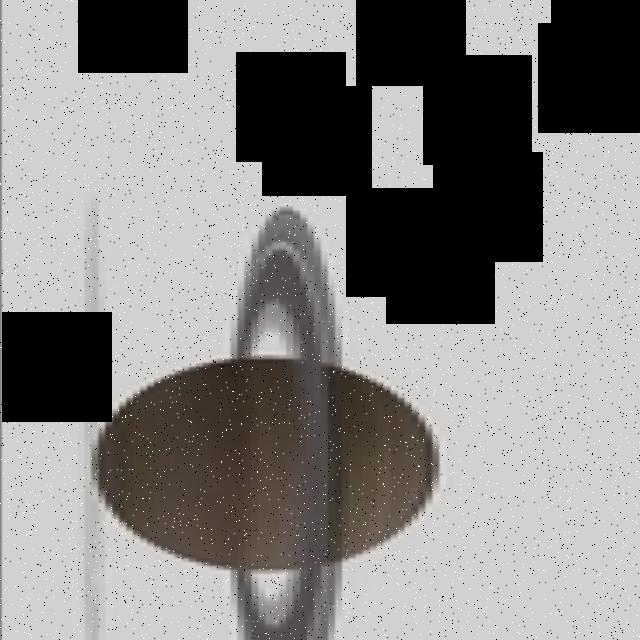Saturn: (83, 199, 446, 640)
